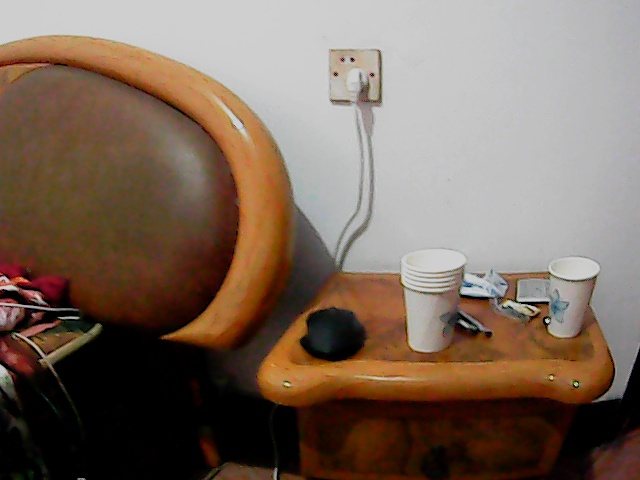cup: (400, 249, 468, 356)
mouse: (303, 304, 364, 357)
